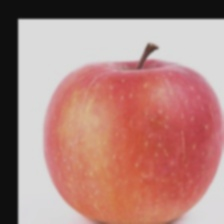apple: (0, 54, 193, 201)
